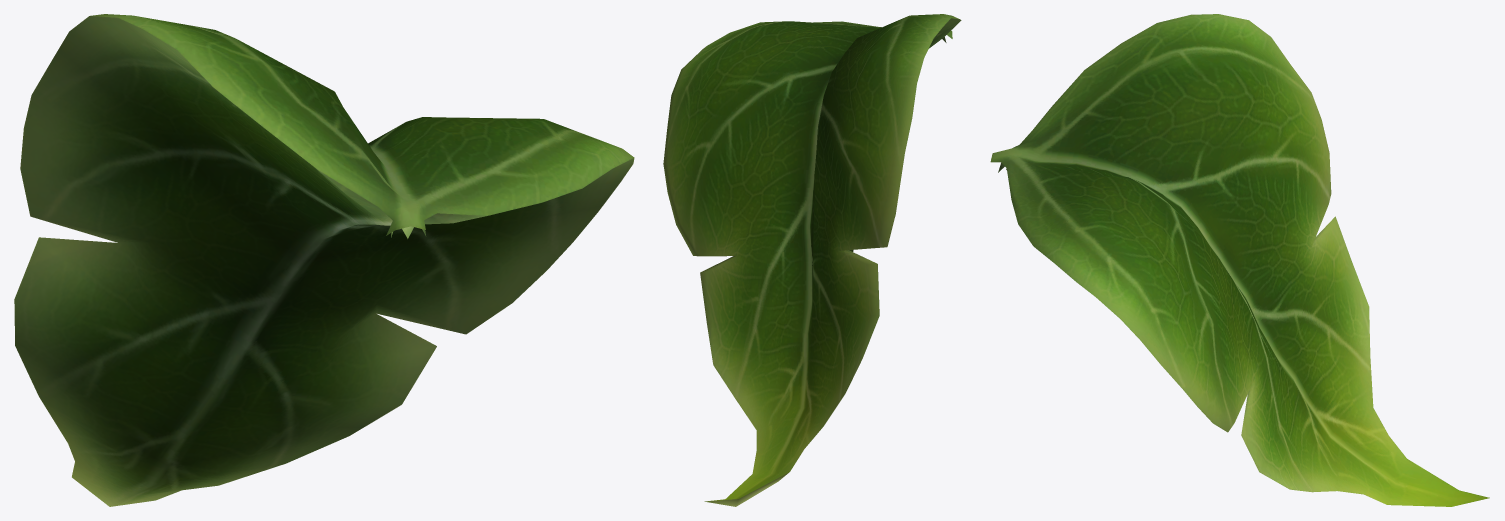
File: peashooter_pelo_izq.obj
The picture shows the model from 3 angles, left to right: view 1: azimuth 30°, elevation 25°; view 2: azimuth 150°, elevation 25°; view 3: azimuth 270°, elevation 25°; orthographic projection. The views are drawn at different scales.
Visible parts, largest first — view 1: peashooter_pelo_izq; view 2: peashooter_pelo_izq; view 3: peashooter_pelo_izq.
Part boxes in pixels (x1,y1,x2,y2): peashooter_pelo_izq: (14,14,634,506); peashooter_pelo_izq: (663,14,961,506); peashooter_pelo_izq: (990,14,1489,506).
Size of the model in its own units: 0.3181 by 0.4004 by 0.4065.
